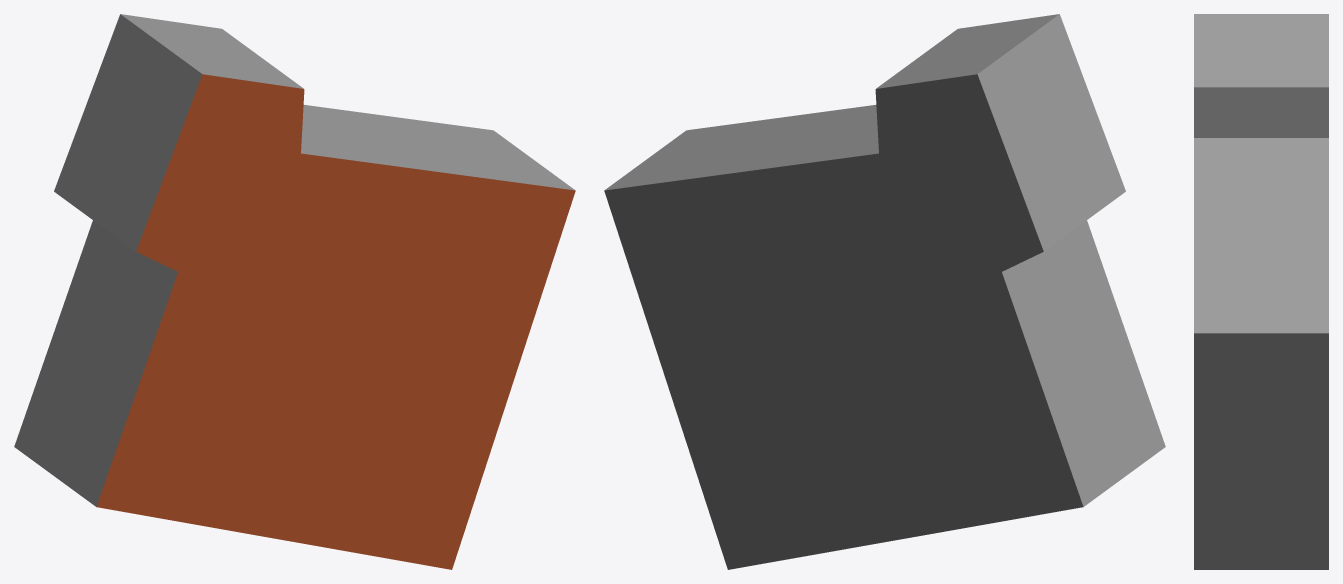
Rendered from construction_4690_assumed_A_Casa_h6m.obj.
The picture shows the model from 3 angles, left to right: view 1: azimuth 30°, elevation 25°; view 2: azimuth 150°, elevation 25°; view 3: azimuth 270°, elevation 25°; orthographic projection. The views are drawn at different scales.
Visible parts, largest first — view 1: construction_4690_assumed_A_Casa; view 2: construction_4690_assumed_A_Casa; view 3: construction_4690_assumed_A_Casa.
Part boxes in pixels (bbox=[...]): construction_4690_assumed_A_Casa: bbox=[14, 14, 575, 569]; construction_4690_assumed_A_Casa: bbox=[604, 14, 1165, 569]; construction_4690_assumed_A_Casa: bbox=[1194, 14, 1328, 569].
Size of the model in its own units: 20.19 by 22.4 by 6.
